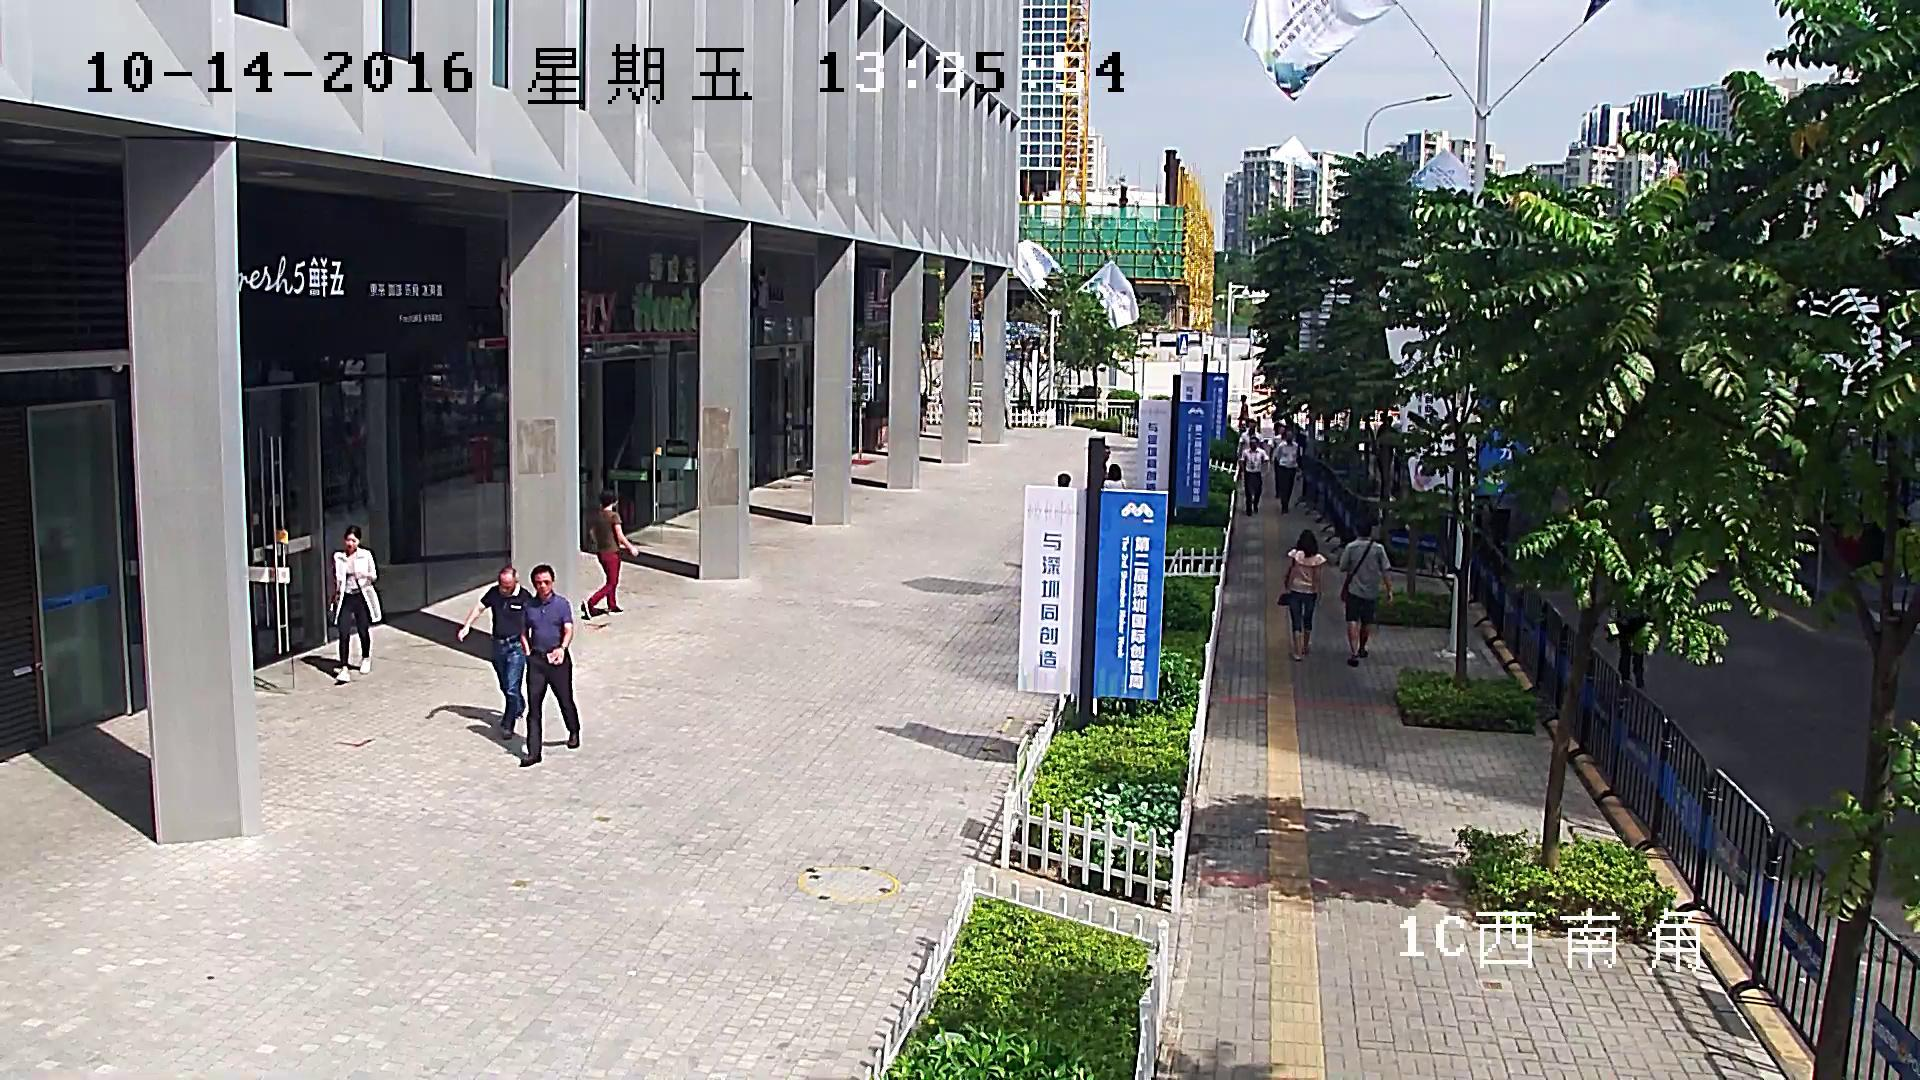person: (457, 566, 531, 739), (520, 565, 579, 766), (332, 525, 383, 683), (1340, 524, 1394, 668), (583, 491, 637, 619), (1277, 529, 1326, 662), (1270, 430, 1303, 515), (1238, 436, 1268, 517), (1618, 616, 1648, 695), (1269, 425, 1286, 498), (1237, 419, 1267, 452), (1102, 464, 1126, 491)
